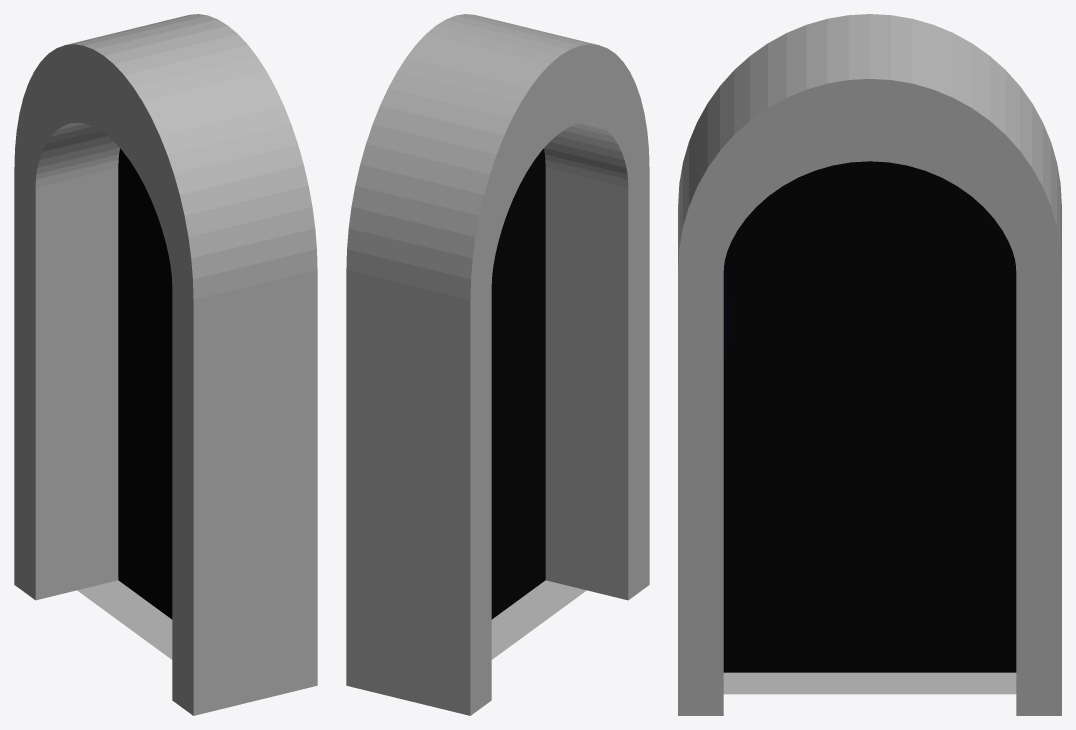
File: TestGateGoal.fbx
3 renders of one model, left to right at view 1: azimuth 30°, elevation 25°; view 2: azimuth 150°, elevation 25°; view 3: azimuth 270°, elevation 25°, orthographic. The views are drawn at different scales.
Parts seen in each view (by area): view 1: 立方体.001; view 2: 立方体.001; view 3: 立方体.001.
Part boxes in pixels (x1=…): 立方体.001: x1=14, y1=14, x2=317, y2=715; 立方体.001: x1=346, y1=14, x2=649, y2=715; 立方体.001: x1=678, y1=14, x2=1061, y2=715.
Size of the model in its own units: 0.04 by 0.1832 by 0.1.
2 materials, 2 textured.
